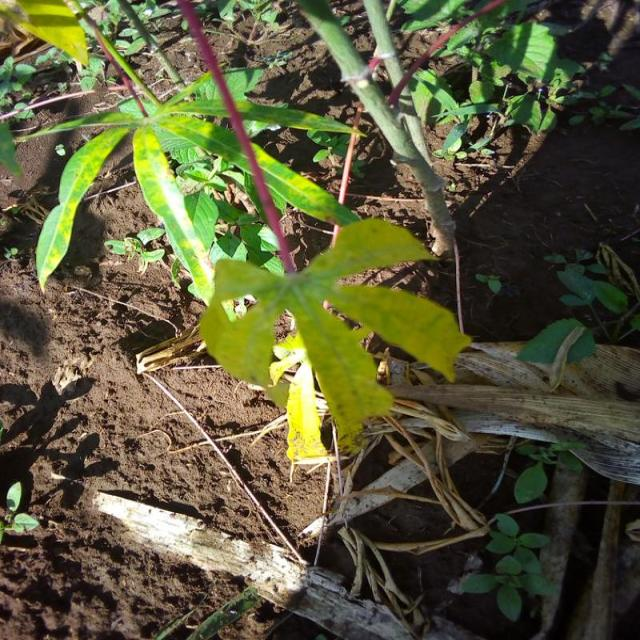cassava leaf: (198, 215, 472, 461)
